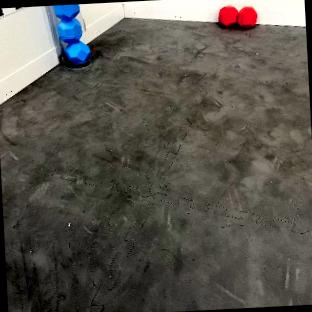V5_BLUE: (53, 4, 88, 62), (65, 40, 89, 62)
V5_RED: (218, 6, 257, 26)
